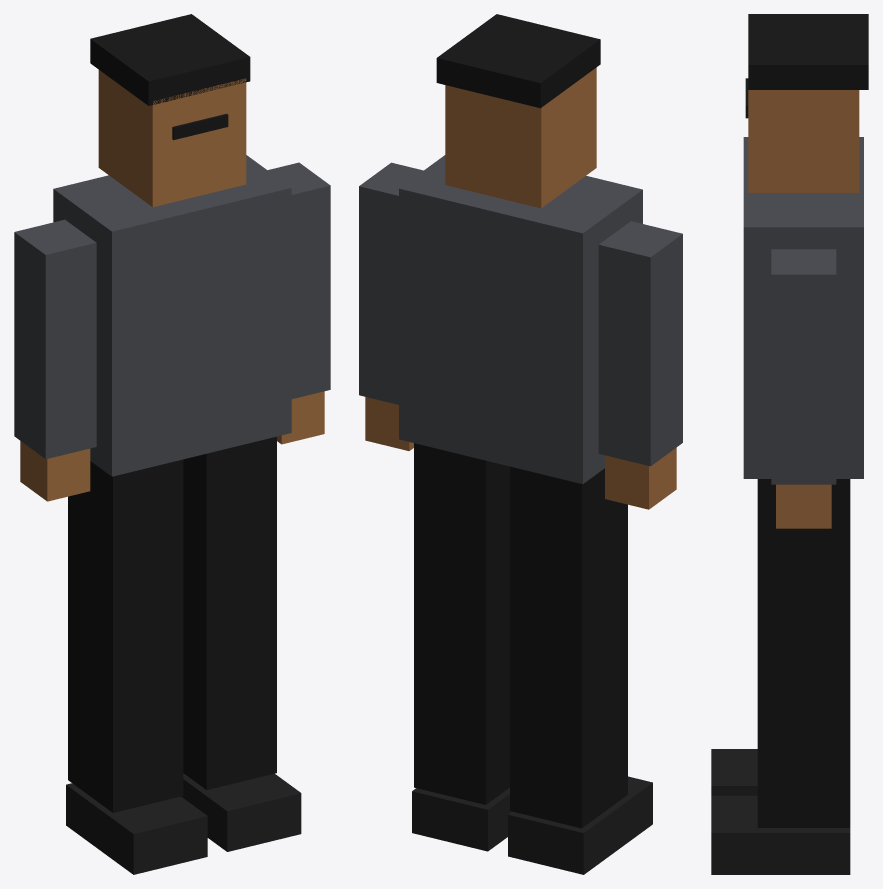
Rendered from guard.glb.
The picture shows the model from 3 angles, left to right: view 1: azimuth 30°, elevation 25°; view 2: azimuth 150°, elevation 25°; view 3: azimuth 270°, elevation 25°; orthographic projection. The views are drawn at different scales.
Parts seen in each view (by area): view 1: torso, leg_r, leg_l, head, arm_r, arm_l; view 2: torso, leg_r, leg_l, head, arm_r, arm_l; view 3: leg_l, head, torso, arm_l, leg_r.
Boxes of the visible parts, bbox=[...] form: torso: bbox=[53, 155, 291, 476]; leg_r: bbox=[66, 459, 207, 874]; leg_l: bbox=[181, 436, 301, 851]; head: bbox=[90, 14, 250, 207]; arm_r: bbox=[14, 219, 96, 501]; arm_l: bbox=[267, 162, 330, 444]; torso: bbox=[399, 155, 642, 484]; leg_r: bbox=[508, 466, 652, 874]; leg_l: bbox=[412, 443, 511, 851]; head: bbox=[436, 14, 600, 208]; arm_r: bbox=[598, 221, 682, 509]; arm_l: bbox=[359, 162, 423, 450]; leg_l: bbox=[711, 479, 850, 874]; head: bbox=[745, 14, 868, 192]; torso: bbox=[743, 137, 863, 478]; arm_l: bbox=[771, 249, 836, 528]; leg_r: bbox=[711, 749, 757, 795].
Size of the model in its own units: 0.73 by 1.89 by 0.34.
